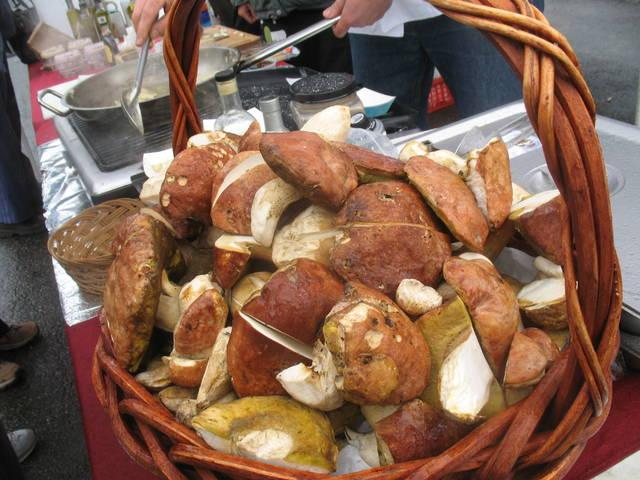edible_mushroom: (102, 109, 576, 472)
